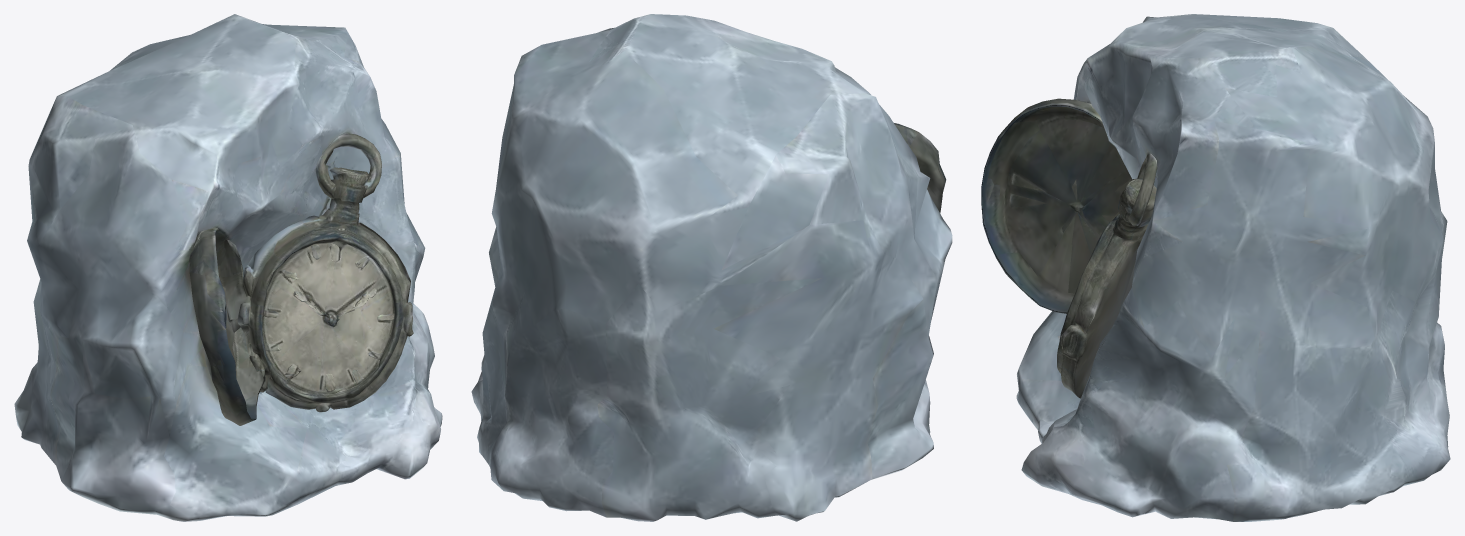
Rendered from node_ice_treasure_clock.glb.
The picture shows the model from 3 angles, left to right: view 1: azimuth 30°, elevation 25°; view 2: azimuth 150°, elevation 25°; view 3: azimuth 270°, elevation 25°; orthographic projection. The views are drawn at different scales.
Size of the model in its own units: 0.2905 by 0.2768 by 0.291.
Materials: 1 (1 with a texture image).
